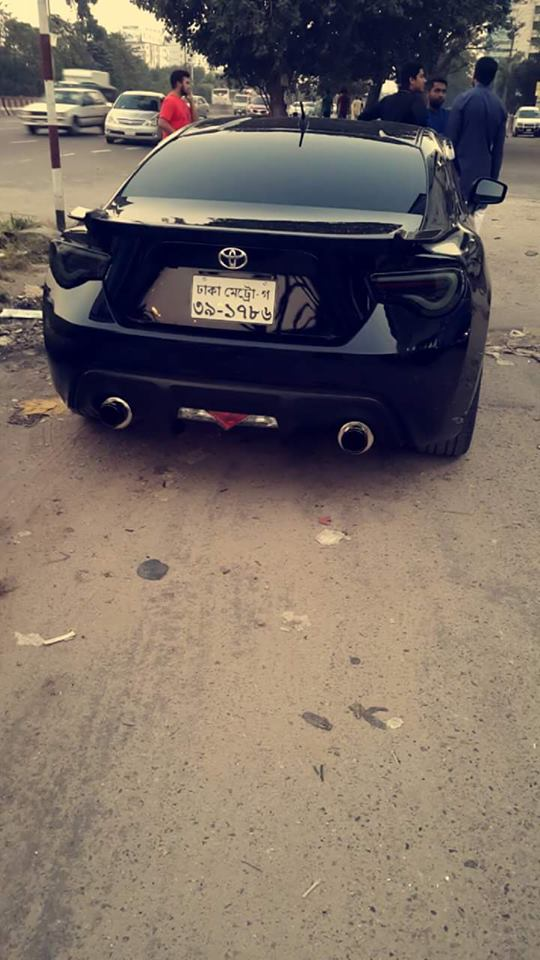registration_plate: (191, 275, 275, 324)
